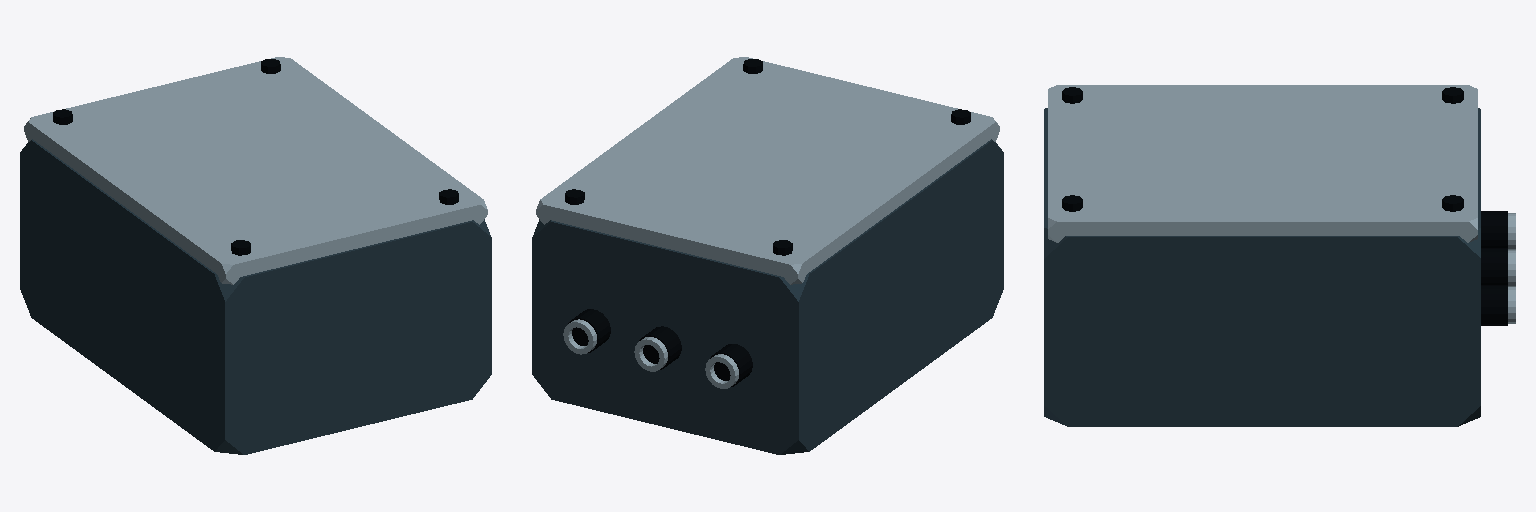
robot.urdf — compute_enclosure:
<?xml version="1.0"?>
<!-- Visual description only. Fixed placements are source estimates, not measured extrinsics. -->
<robot name="compute_enclosure">
<link name="base_link"/>
<link name="compute_case_concept"><visual><geometry><mesh filename="package://usv_rov_description/meshes/compute_enclosure/compute_case_concept.dae"/></geometry></visual></link><joint name="compute_case_concept_fixed" type="fixed"><parent link="base_link"/><child link="compute_case_concept"/><origin xyz="0 0 0" rpy="0 0 0"/></joint>
<link name="compute_lid_concept"><visual><geometry><mesh filename="package://usv_rov_description/meshes/compute_enclosure/compute_lid_concept.dae"/></geometry></visual></link><joint name="compute_lid_concept_fixed" type="fixed"><parent link="base_link"/><child link="compute_lid_concept"/><origin xyz="0 0 0" rpy="0 0 0"/></joint>
<link name="compute_ports_concept"><visual><geometry><mesh filename="package://usv_rov_description/meshes/compute_enclosure/compute_ports_concept.dae"/></geometry></visual></link><joint name="compute_ports_concept_fixed" type="fixed"><parent link="base_link"/><child link="compute_ports_concept"/><origin xyz="0 0 0" rpy="0 0 0"/></joint>
</robot>

--- Render facts (derived) ---
3 views of the same robot in one strip: view 1: azimuth 30°, elevation 25°; view 2: azimuth 150°, elevation 25°; view 3: azimuth 270°, elevation 25° (orthographic).
Robot: compute_enclosure — 4 links, 3 joints (3 fixed); root link base_link; default pose: every joint at zero.
Links seen in each view (by area): view 1: compute_case_concept, compute_lid_concept; view 2: compute_case_concept, compute_lid_concept, compute_ports_concept; view 3: compute_case_concept, compute_lid_concept, compute_ports_concept.
Link boxes in pixels (x1=…): compute_case_concept: x1=20, y1=139, x2=491, y2=454; compute_lid_concept: x1=24, y1=57, x2=487, y2=284; compute_case_concept: x1=532, y1=139, x2=1003, y2=454; compute_lid_concept: x1=536, y1=57, x2=999, y2=284; compute_ports_concept: x1=563, y1=309, x2=752, y2=388; compute_case_concept: x1=1044, y1=108, x2=1480, y2=426; compute_lid_concept: x1=1048, y1=85, x2=1477, y2=242; compute_ports_concept: x1=1481, y1=211, x2=1515, y2=325.
Bounding box of the posed robot: 0.21 × 0.302 × 0.15 m (x, y, z).
Meshes: 3 distinct files referenced, 3 mesh visuals loaded (3 Collada DAE).
